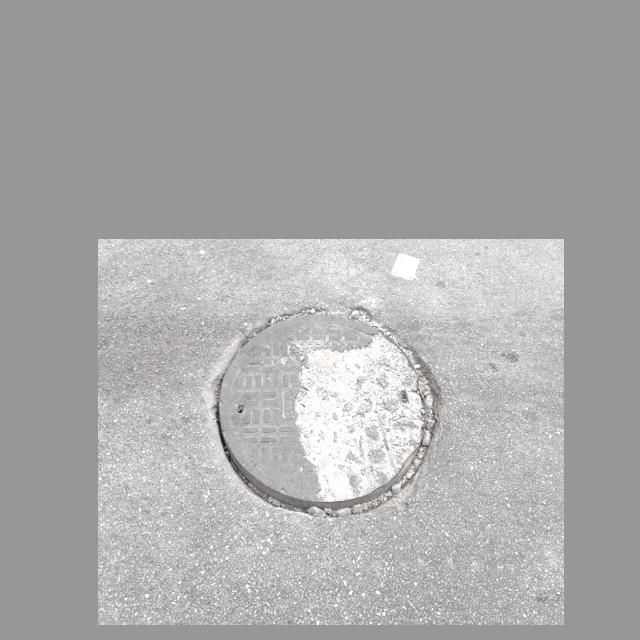circle: (205, 294, 452, 522)
